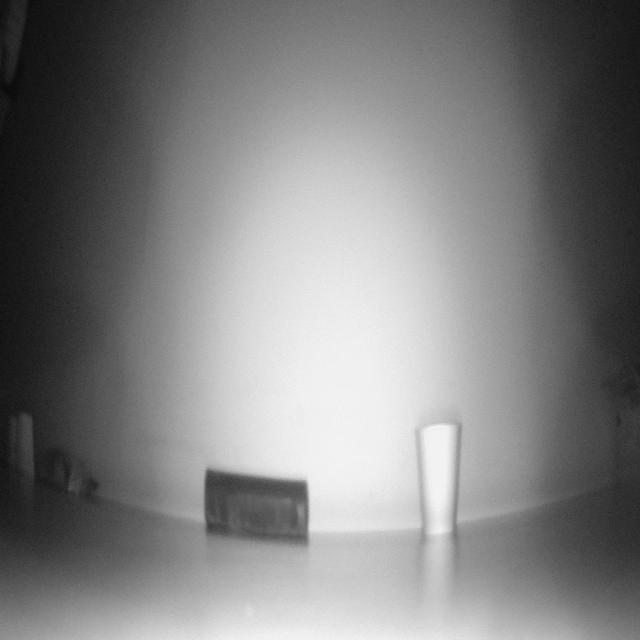targets: (199, 474, 310, 539), (416, 421, 465, 534), (34, 437, 108, 501), (602, 366, 640, 467), (13, 402, 39, 485)
